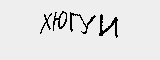Ж: (10, 21, 45, 48)
К: (47, 21, 78, 49)
Л: (96, 22, 115, 42)
Т: (113, 21, 125, 38)
У: (122, 20, 136, 38)
Ғ: (75, 21, 103, 47)
